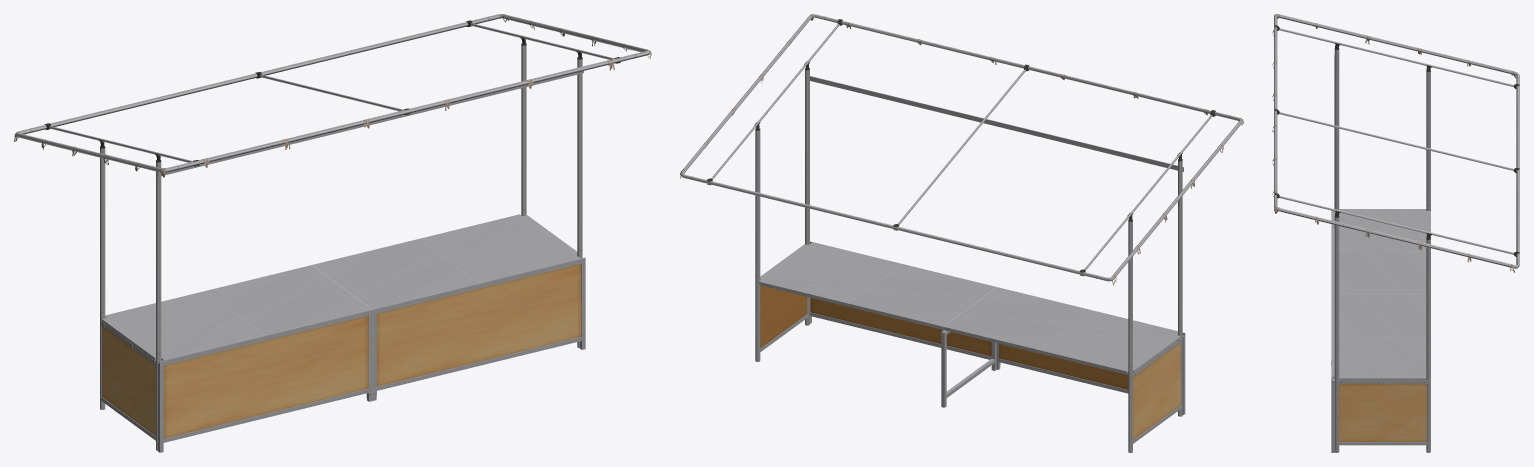
Rendered from jsf_4P_s04_c05_t01.fbx.
3 views of the same model, side by side, from view 1: azimuth 30°, elevation 25°; view 2: azimuth 150°, elevation 25°; view 3: azimuth 270°, elevation 25° (orthographic). The views are drawn at different scales.
Parts seen in each view (by area): view 1: Base_s04_c05, Table_4P_s04_t01, Pillar4_s04, Rope_4P_s04; view 2: Table_4P_s04_t01, Pillar4_s04, Base_s04_c05, Support; view 3: Table_4P_s04_t01, Pillar4_s04, Base_s04_c05, Rope_4P_s04.
Part boxes in pixels (x1,y1,x2,y2): Base_s04_c05: [100, 257, 585, 452]; Table_4P_s04_t01: [101, 214, 579, 364]; Pillar4_s04: [14, 14, 649, 450]; Rope_4P_s04: [14, 14, 651, 177]; Table_4P_s04_t01: [758, 242, 1181, 376]; Pillar4_s04: [680, 14, 1242, 452]; Base_s04_c05: [760, 241, 1185, 443]; Support: [941, 330, 996, 407]; Table_4P_s04_t01: [1332, 209, 1430, 383]; Pillar4_s04: [1274, 14, 1519, 452]; Base_s04_c05: [1331, 210, 1427, 452]; Rope_4P_s04: [1272, 14, 1516, 272].
Size of the model in its own units: 395 by 243 by 211.
